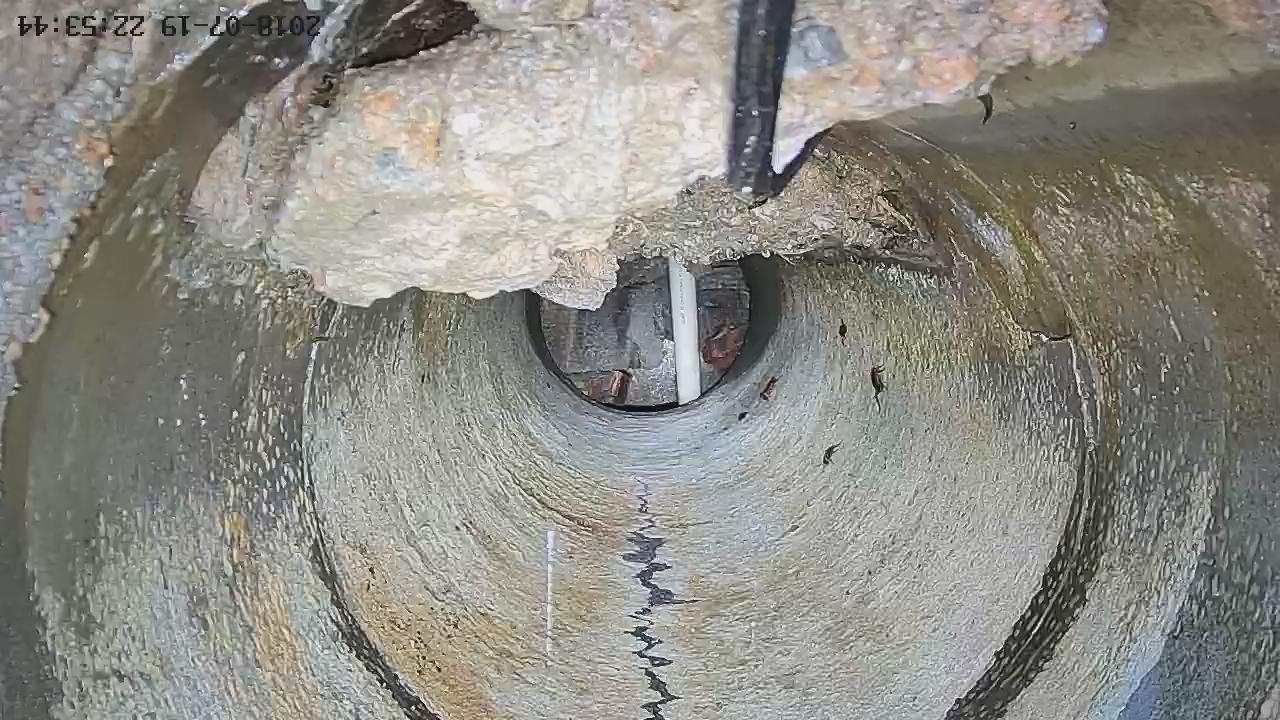YWCR: (670, 260, 701, 404)
ZAW: (193, 1, 1109, 310)
